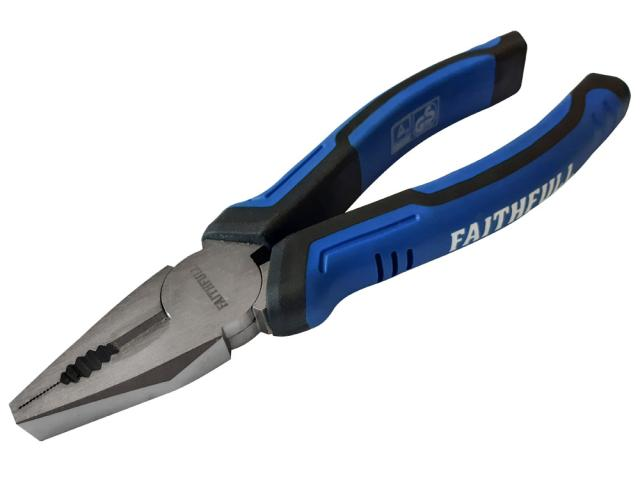Pliers: (10, 32, 630, 439)
